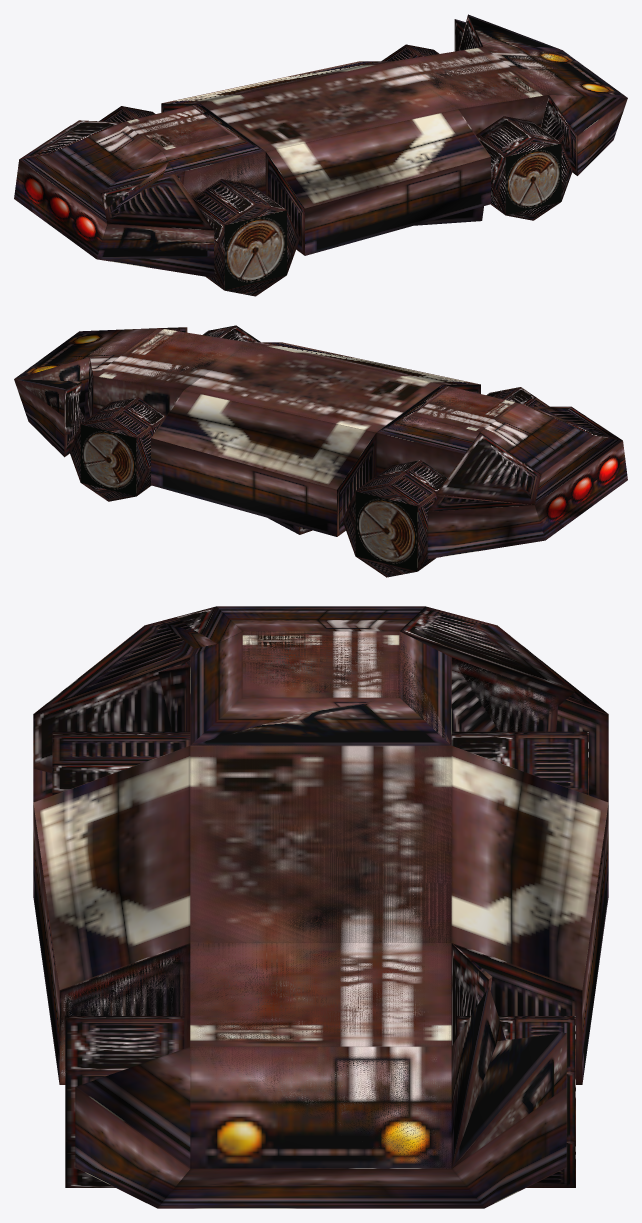
File: Gamma.fbx
3 views of the same model, one above another, from view 1: azimuth 30°, elevation 25°; view 2: azimuth 150°, elevation 25°; view 3: azimuth 270°, elevation 25° (orthographic). The views are drawn at different scales.
Parts seen in each view (by area): view 1: Damage 0, Damage 1, Damage 2, Wheel BR, Wheel FR, Wheel BL, Wheel FL; view 2: Damage 0, Damage 1, Damage 2, Wheel BL, Wheel FL, Wheel BR, Wheel FR; view 3: Damage 0, Damage 1, Damage 2, Wheel FR, Wheel BR, Wheel BL, Wheel FL.
Boxes of the visible parts, x1=… form: Damage 0: x1=14, y1=47, x2=627, y2=277; Damage 1: x1=97, y1=19, x2=571, y2=259; Damage 2: x1=20, y1=14, x2=564, y2=225; Wheel BR: x1=192, y1=179, x2=299, y2=296; Wheel FR: x1=476, y1=116, x2=572, y2=220; Wheel BL: x1=99, y1=106, x2=155, y2=122; Wheel FL: x1=381, y1=44, x2=439, y2=61; Damage 0: x1=14, y1=327, x2=627, y2=558; Damage 1: x1=14, y1=327, x2=608, y2=438; Damage 2: x1=14, y1=343, x2=611, y2=534; Wheel BL: x1=342, y1=460, x2=447, y2=577; Wheel FL: x1=69, y1=397, x2=165, y2=501; Wheel BR: x1=486, y1=387, x2=549, y2=406; Wheel FR: x1=203, y1=325, x2=260, y2=342; Damage 0: x1=33, y1=606, x2=608, y2=1208; Damage 1: x1=33, y1=606, x2=566, y2=1168; Damage 2: x1=60, y1=606, x2=574, y2=1168; Wheel FR: x1=65, y1=1016, x2=184, y2=1187; Wheel BR: x1=52, y1=731, x2=190, y2=795; Wheel BL: x1=451, y1=731, x2=588, y2=795; Wheel FL: x1=457, y1=1016, x2=575, y2=1187.
Bounding box in the file's own units: 721 × 158 × 333.
